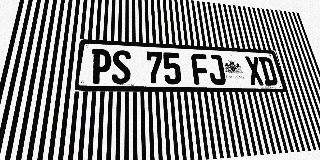5: (163, 52, 182, 85)
7: (145, 51, 164, 84)
D: (258, 57, 279, 85)
F: (191, 54, 211, 85)
J: (206, 54, 227, 85)
P: (90, 49, 112, 84)
S: (111, 50, 131, 84)
X: (244, 56, 265, 85)
